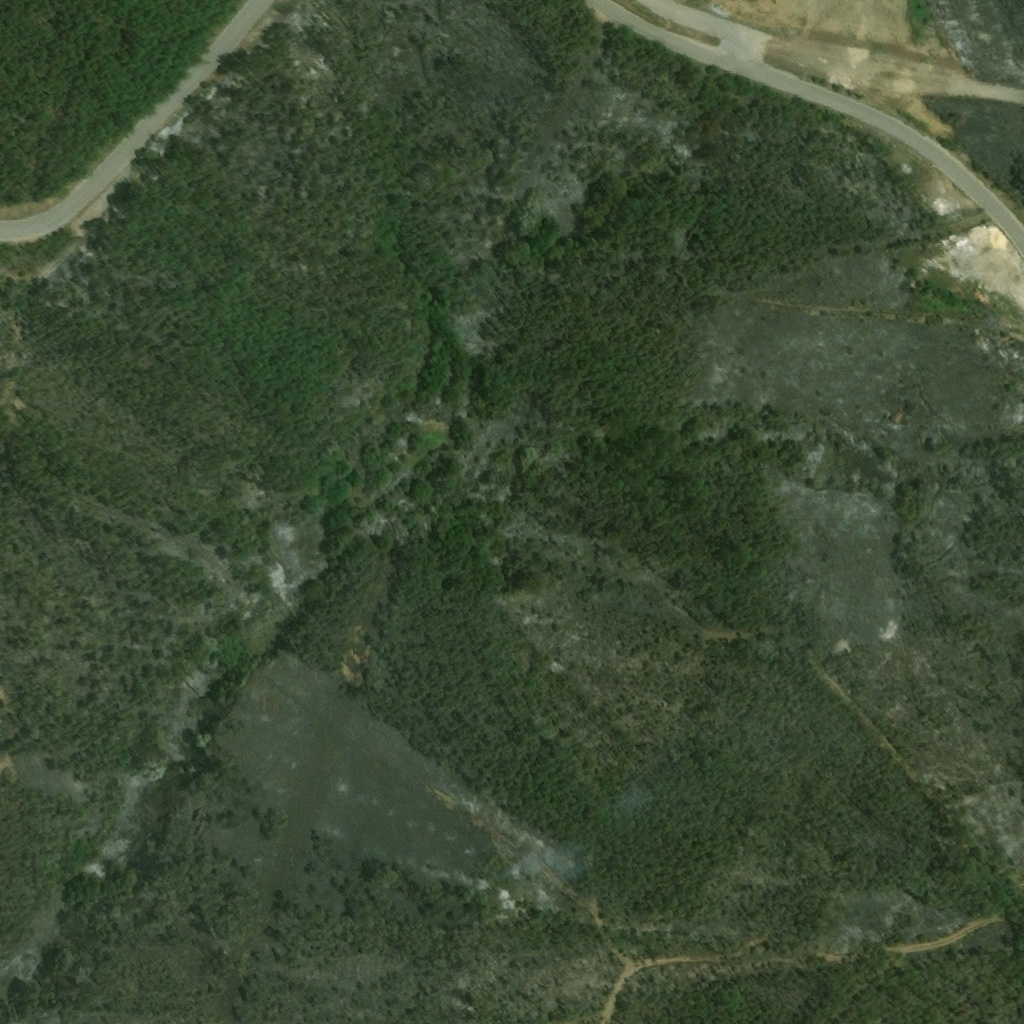3 destroyed: (991, 336, 1006, 350)
